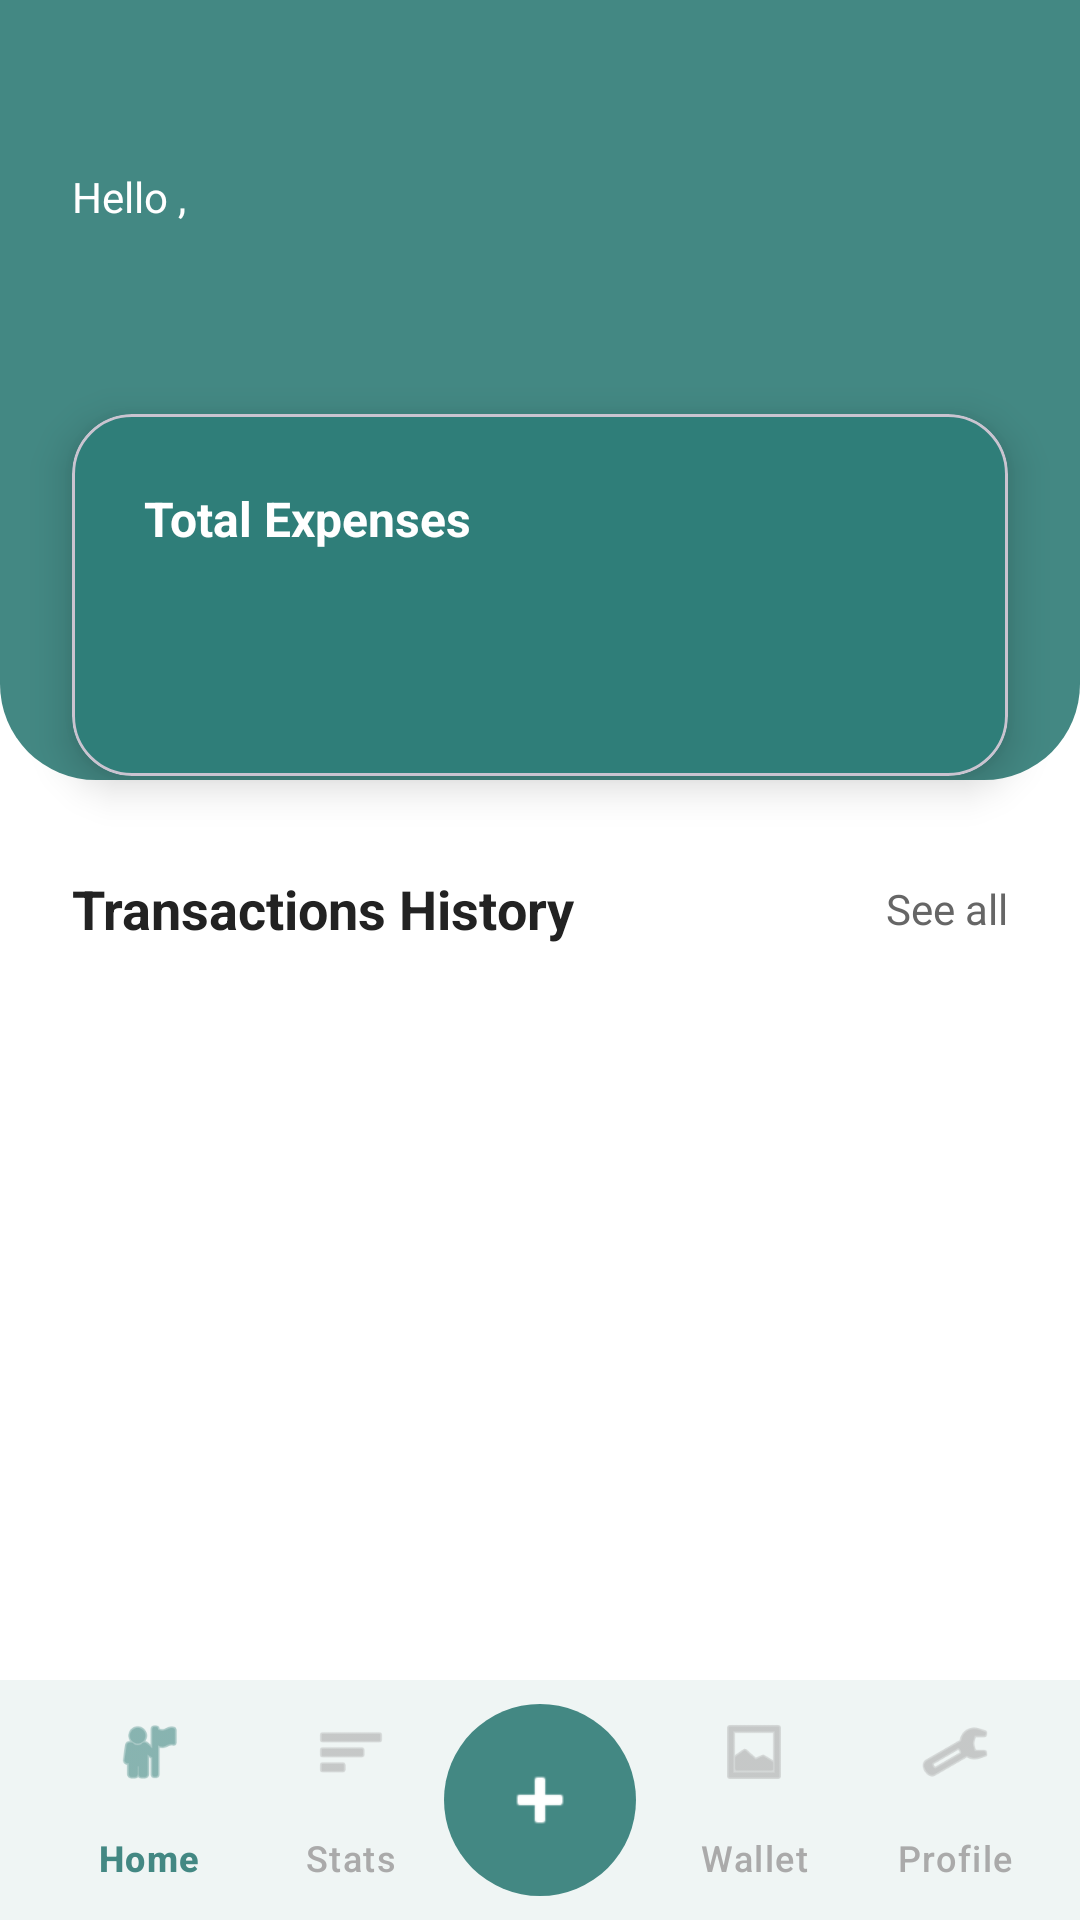

Locate icon controls on the screen. Image size 1080*1920, boxes as box(x1, y1, x2, y2).
Add transaction: box(444, 1728, 636, 1896)
